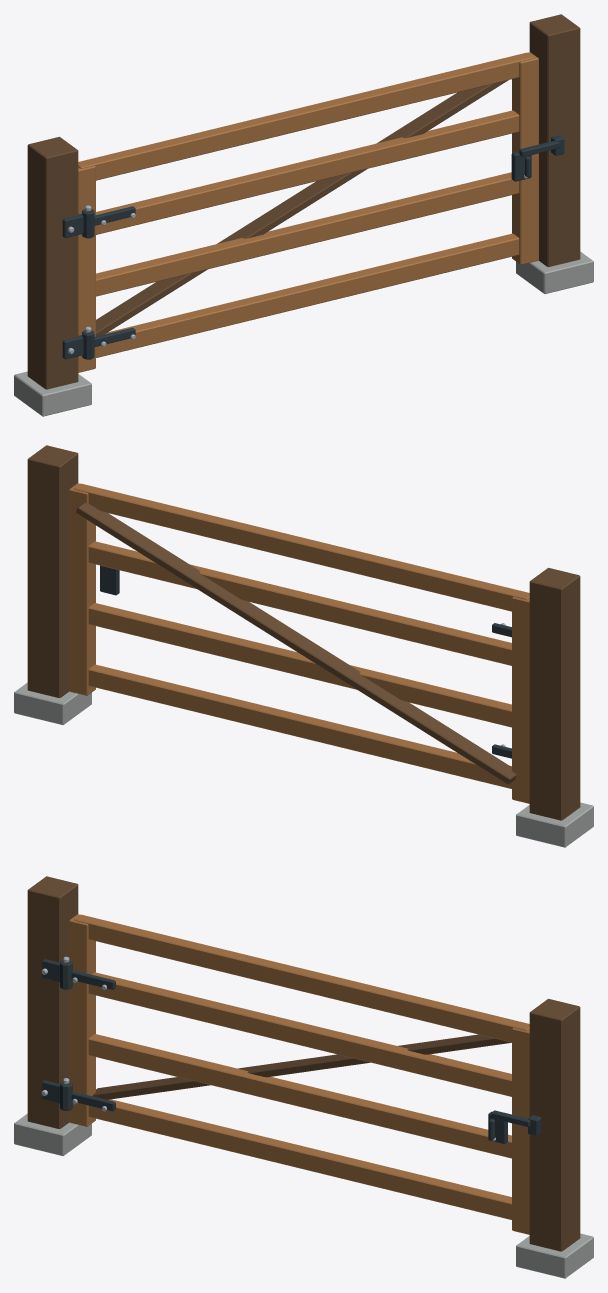
Rendered from b19_split_rail_field_gate.glb.
3 views of the same model, one above another, from view 1: azimuth 30°, elevation 25°; view 2: azimuth 150°, elevation 25°; view 3: azimuth 330°, elevation 25° (orthographic).
Parts seen in each view (by area): view 1: b19_split_rail_field_gate; view 2: b19_split_rail_field_gate; view 3: b19_split_rail_field_gate.
Part boxes in pixels (x1=…): b19_split_rail_field_gate: x1=14, y1=14, x2=593, y2=416; b19_split_rail_field_gate: x1=14, y1=445, x2=593, y2=847; b19_split_rail_field_gate: x1=14, y1=876, x2=593, y2=1278.
Bounding box in the file's own units: 3.19 × 1.4 × 0.3397.
